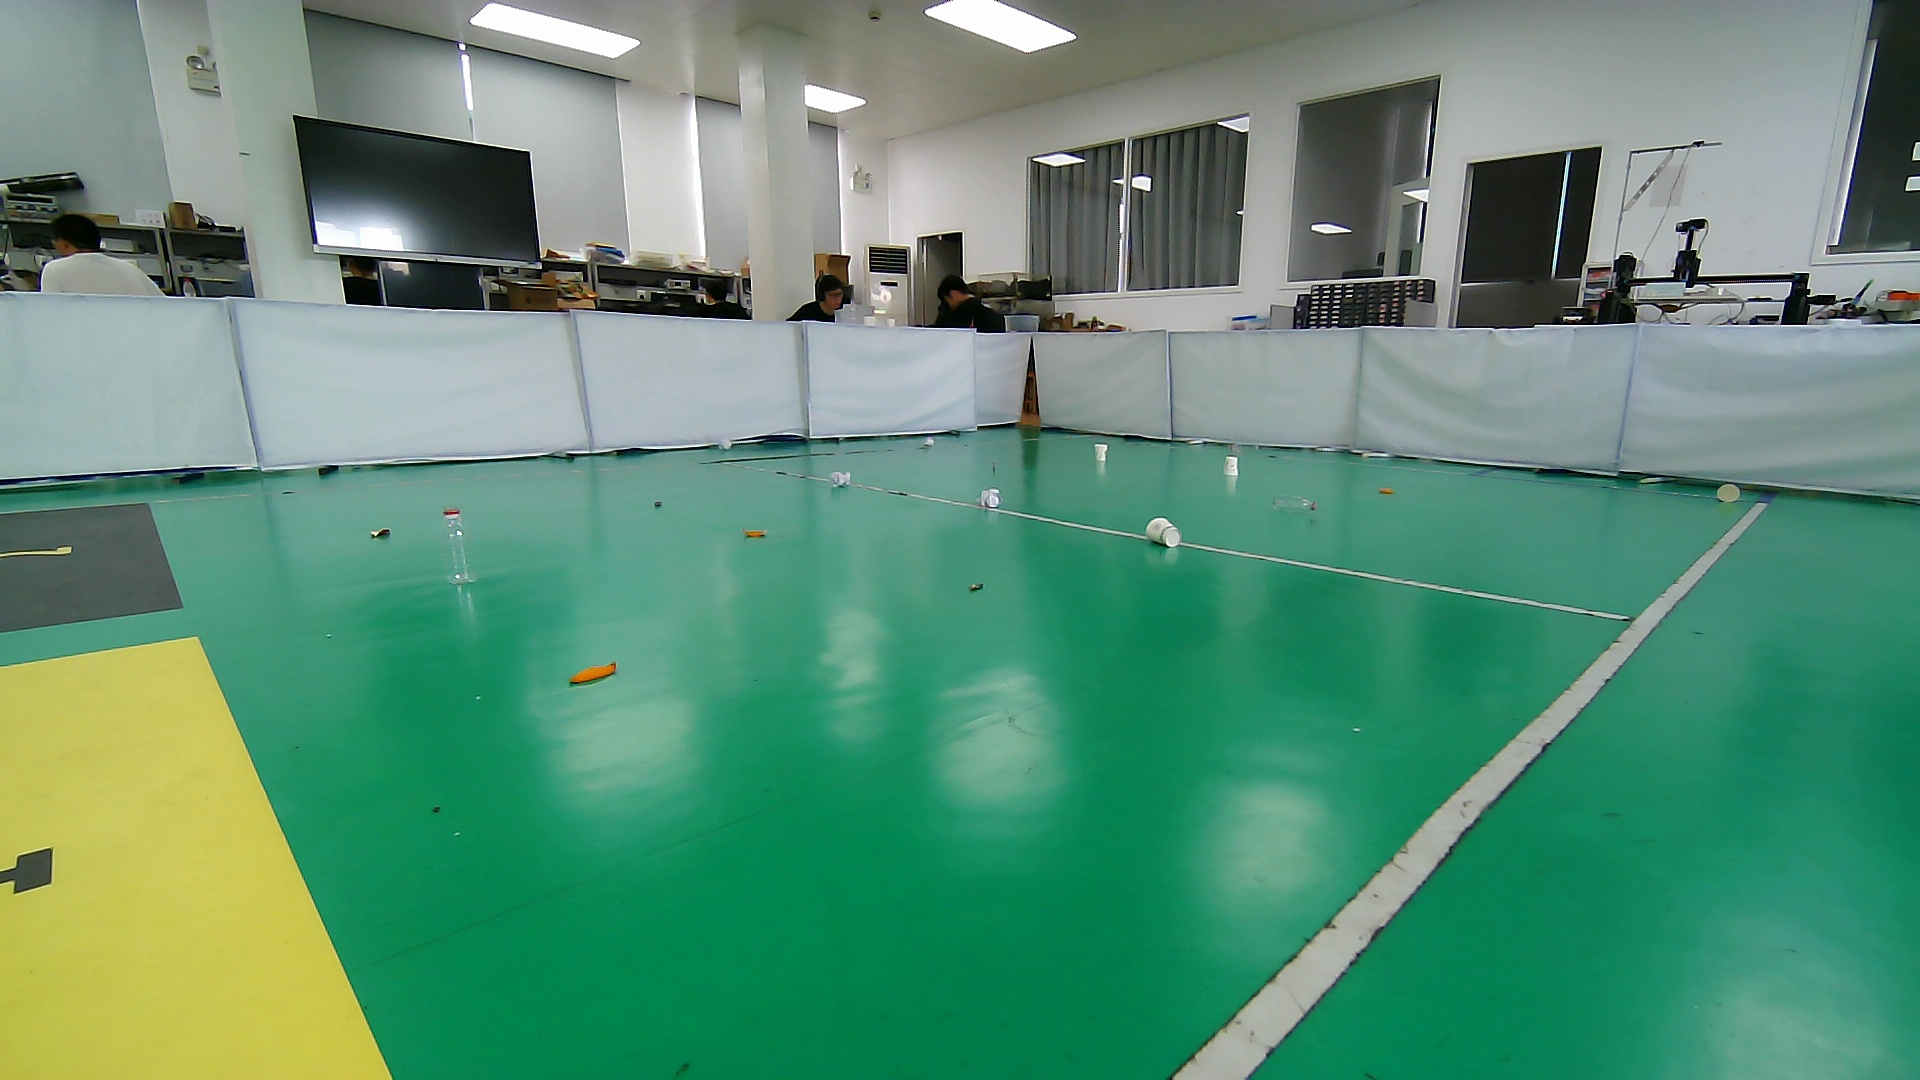battery: (963, 578, 990, 595), (647, 495, 669, 512), (986, 458, 1001, 477)
bottle: (434, 505, 483, 588), (1267, 492, 1319, 516)
orangepeel: (564, 657, 622, 691), (367, 522, 396, 545), (741, 524, 770, 542), (1375, 485, 1396, 498)
papercup: (1142, 514, 1182, 549), (1714, 481, 1743, 505), (1220, 454, 1244, 477), (1092, 440, 1112, 463)
spitball: (978, 487, 1004, 509), (829, 469, 851, 489)
